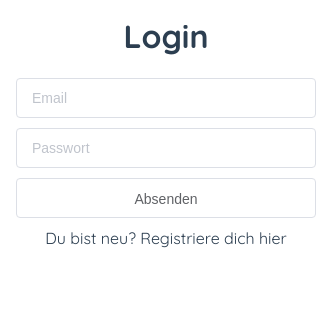
Scenario: Login › login › switches back to login header
The width and height of the screenshot is (333, 315).
Click the element with test id "register_now": click(166, 238) [45, 228, 287, 248]
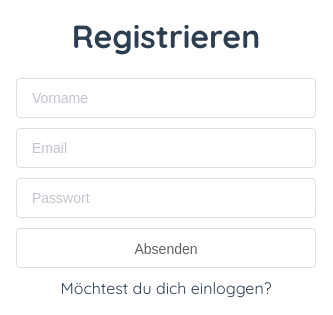
Expected: the heading with test id "header" reads "Registrieren", [72, 16, 260, 56]
Click the element with test id "register_now": click(166, 288) [61, 278, 271, 298]
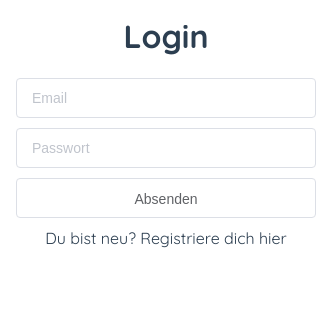
Expected: the heading with test id "header" reads "Login", [124, 16, 208, 56]
